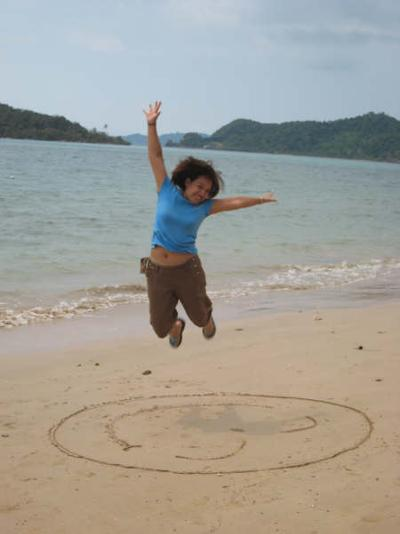person: (142, 100, 274, 350)
